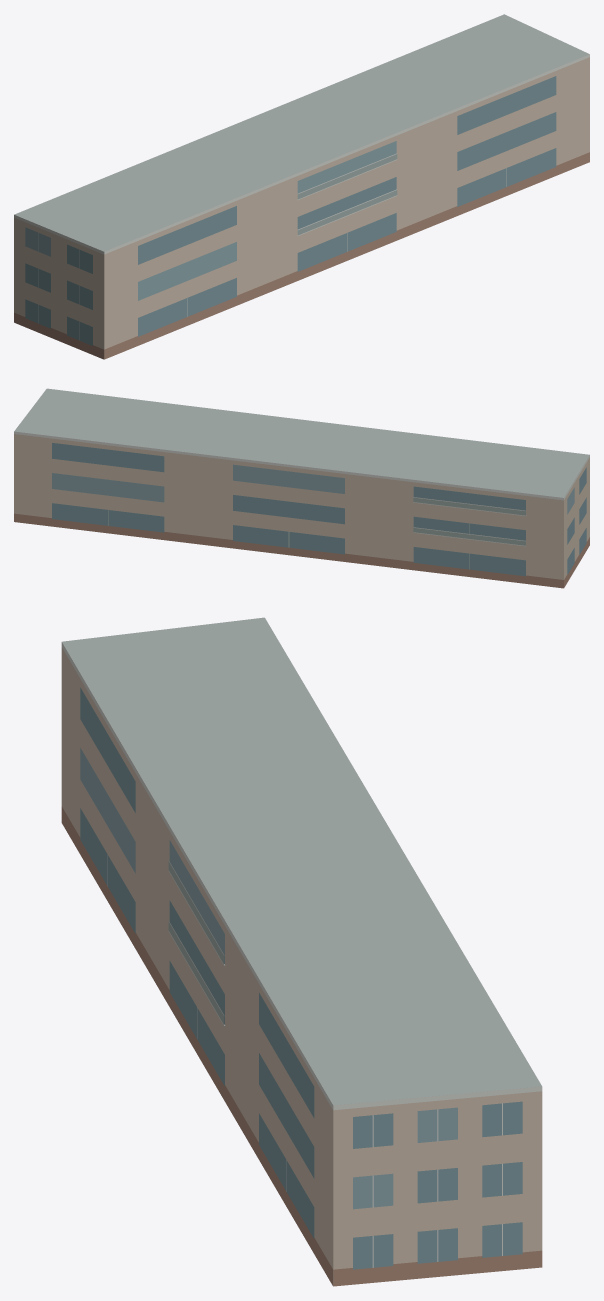
File: survey-upis-32679953.glb
3 renders of one model, top to bottom at view 1: azimuth 30°, elevation 25°; view 2: azimuth 150°, elevation 25°; view 3: azimuth 270°, elevation 25°, orthographic. The views are drawn at different scales.
Visible parts, largest first — view 1: survey-upis-32679953.tmp; view 2: survey-upis-32679953.tmp; view 3: survey-upis-32679953.tmp.
Part boxes in pixels (x1,y1,x2,y2): survey-upis-32679953.tmp: [14, 14, 589, 359]; survey-upis-32679953.tmp: [14, 388, 589, 588]; survey-upis-32679953.tmp: [61, 617, 542, 1286].
Bounding box in the file's own units: 52.91 × 9.15 × 22.03.
